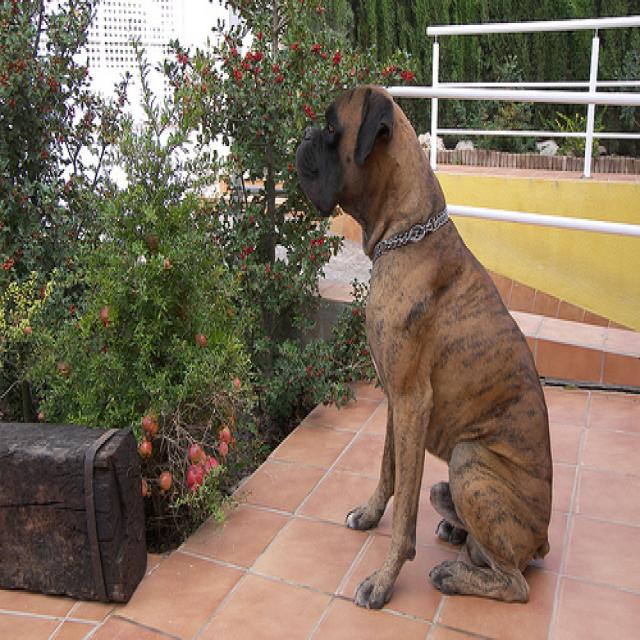dog: (296, 83, 393, 213)
